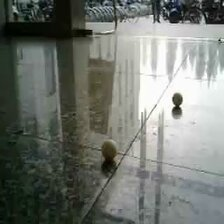w: (100, 139, 119, 160), (171, 93, 184, 106)
